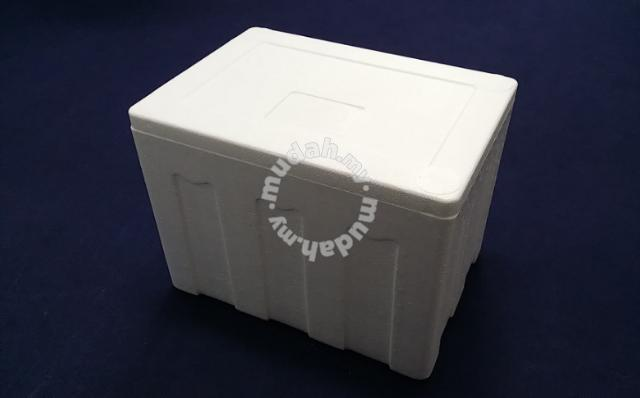Foam Box: (124, 22, 523, 382)
